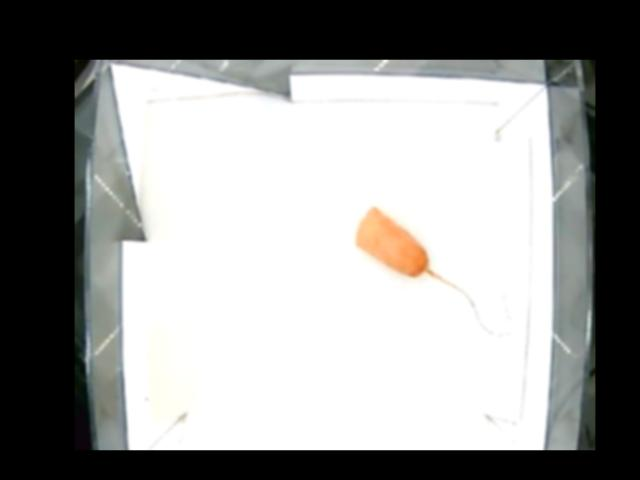Carrot: (352, 206, 431, 281)
